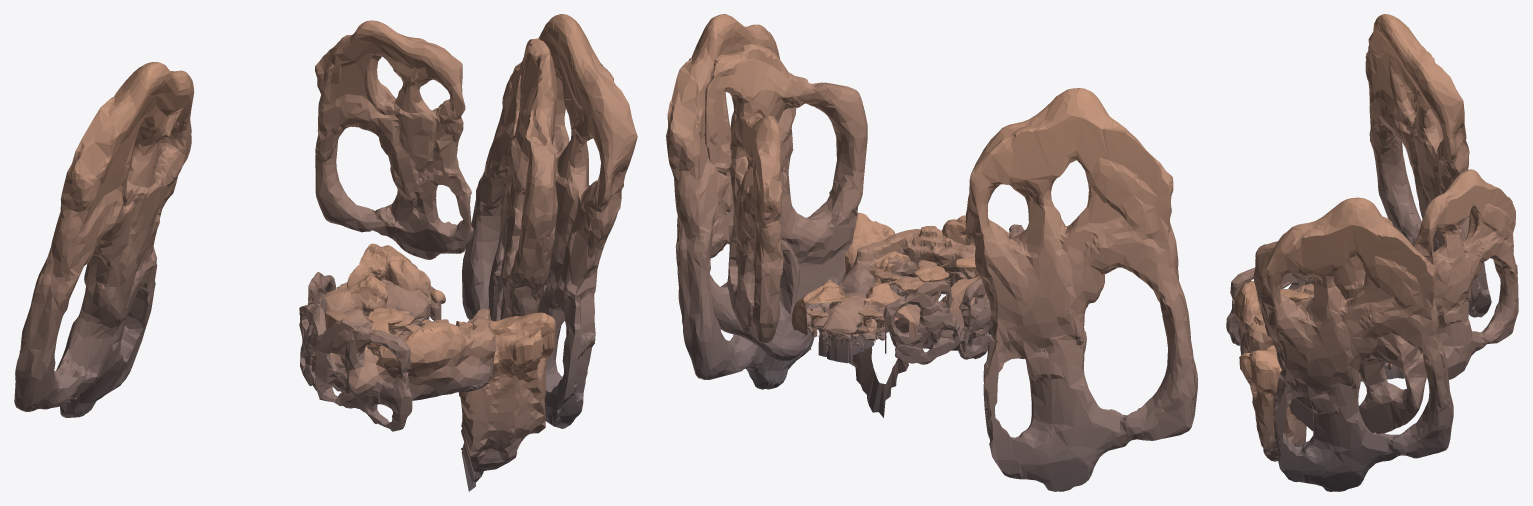
Rendered from abyssal-depths.glb.
The picture shows the model from 3 angles, left to right: view 1: azimuth 30°, elevation 25°; view 2: azimuth 150°, elevation 25°; view 3: azimuth 270°, elevation 25°; orthographic projection. The views are drawn at different scales.
Size of the model in its own units: 2321 by 1841 by 1349.
